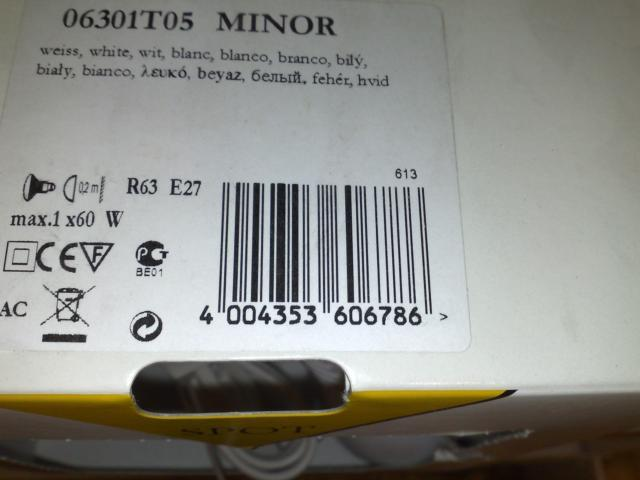Barcode: (194, 180, 440, 337)
